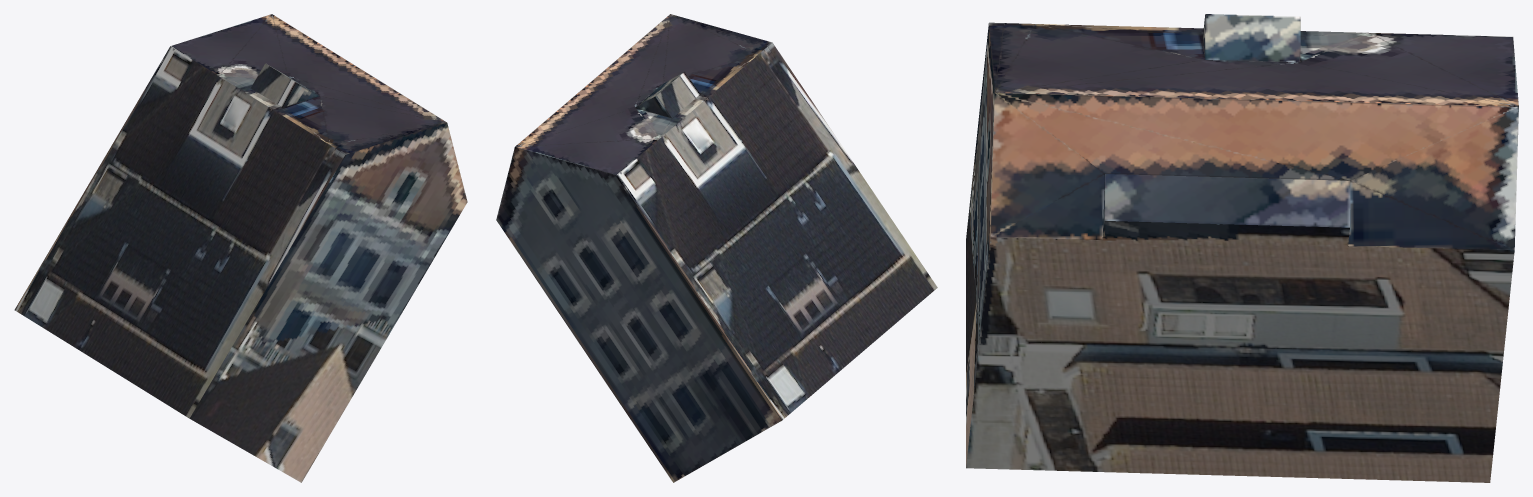
The picture shows the model from 3 angles, left to right: view 1: azimuth 30°, elevation 25°; view 2: azimuth 150°, elevation 25°; view 3: azimuth 270°, elevation 25°; orthographic projection. The views are drawn at different scales.
Parts seen in each view (by area): view 1: BAG_0599100000688723 (×5); view 2: BAG_0599100000688723 (×6); view 3: BAG_0599100000688723 (×7).
Boxes of the visible parts, bbox=[...] form: BAG_0599100000688723 (×5): bbox=[14, 14, 467, 482]; BAG_0599100000688723 (×6): bbox=[496, 14, 937, 482]; BAG_0599100000688723 (×7): bbox=[966, 14, 1518, 482].
Bounding box in the file's own units: 12.96 × 13.7 × 12.97.
Materials: 7 (7 with a texture image).
